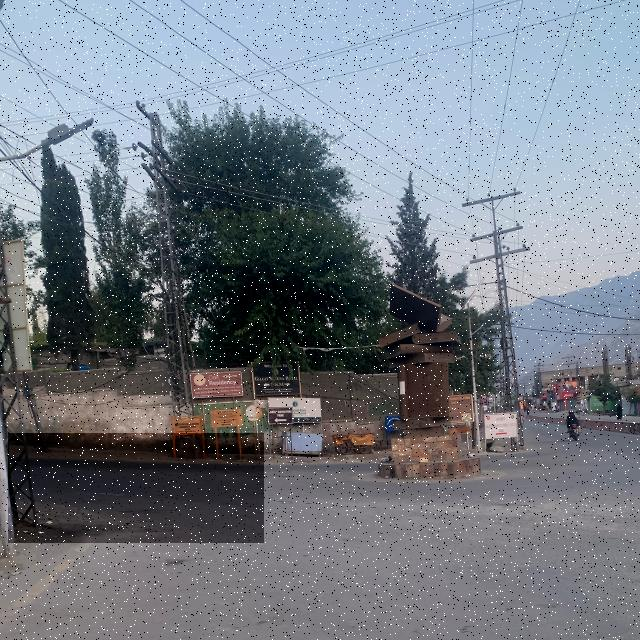left: (8, 433, 264, 543)
